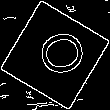O_W: (25, 28, 85, 82)
